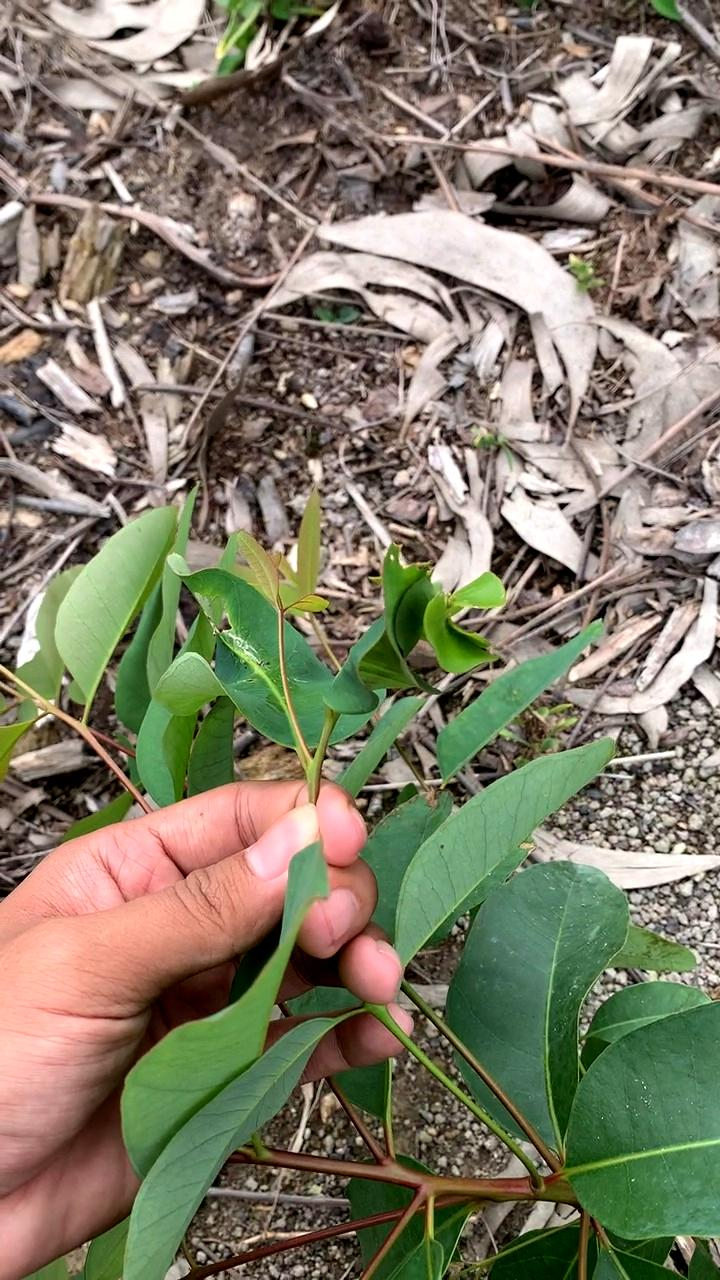Leaf Roller - Leaf: (317, 543, 536, 736)
